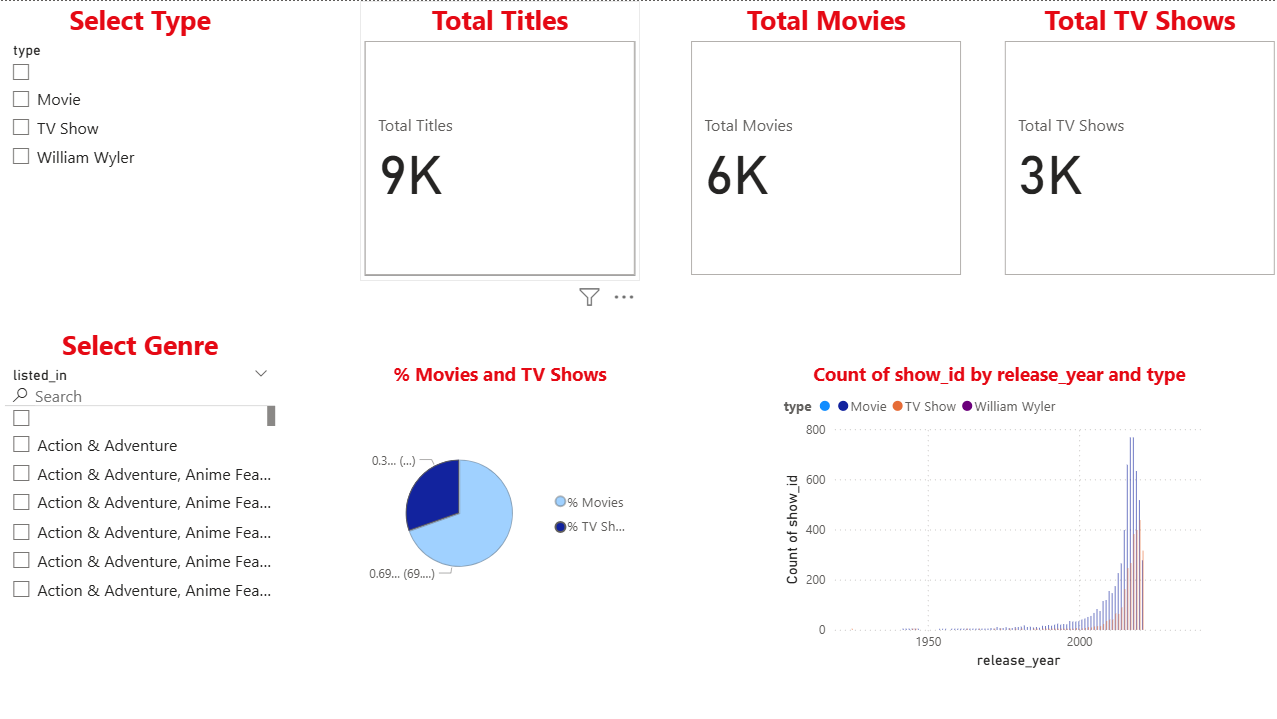

What the dashboard file says about the page in this screenshot:
{"tool":"powerbi","page":{"name":"Page 1","canvas":[1280,720],"ordinal":0},"visuals":[{"type":"cardVisual","title":"Total Titles","fields":{"Data":["netflix_titles.Total Titles"]},"box":[360,0,280,280],"z":0},{"type":"cardVisual","title":"Total Movies","fields":{"Data":["netflix_titles.Total Movies"]},"box":[686.7,0,280,280],"z":1000},{"type":"cardVisual","title":"Total TV Shows","fields":{"Data":["netflix_titles.Total TV Shows"]},"box":[1000,0,280,280],"z":2000},{"type":"slicer","title":"Select Type","fields":{"Values":["netflix_titles.type"]},"box":[0,0,280,280],"z":2001},{"type":"slicer","title":"Select Genre","fields":{"Values":["netflix_titles.listed_in"]},"box":[0,325,280,280],"z":2002},{"type":"pieChart","title":"% Movies and TV Shows","fields":{"Y":["netflix_titles.% Movies","netflix_titles.% TV Shows"]},"box":[360,360,280,280],"z":2003},{"type":"clusteredColumnChart","fields":{"Category":["netflix_titles.release_year"],"Series":["netflix_titles.type"],"Y":["CountNonNull(netflix_titles.show_id)"]},"box":[778.8,360,441.2,312.5],"z":2004}]}

Visuals, with their boxes in screenshot pixels (x1, y1, x2, y2), scaled from the page's 1280x720 canvas onto the 1277x719 screenshot:
"Total Titles" cardVisual: detection(359, 0, 638, 280)
"Total Movies" cardVisual: detection(685, 0, 964, 280)
"Total TV Shows" cardVisual: detection(998, 0, 1276, 280)
"Select Type" slicer: detection(0, 0, 279, 280)
"Select Genre" slicer: detection(0, 325, 279, 604)
"% Movies and TV Shows" pieChart: detection(359, 360, 638, 639)
clusteredColumnChart - netflix_titles.release_year x netflix_titles.type: detection(777, 360, 1217, 672)
